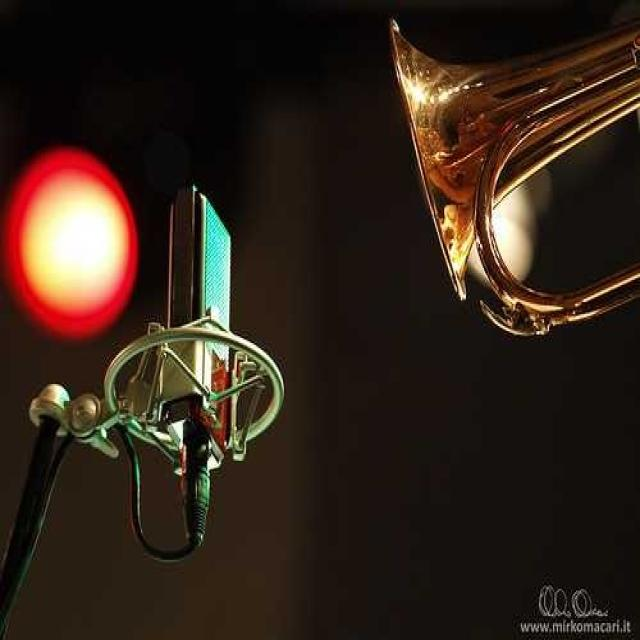microphone: (161, 178, 267, 463)
